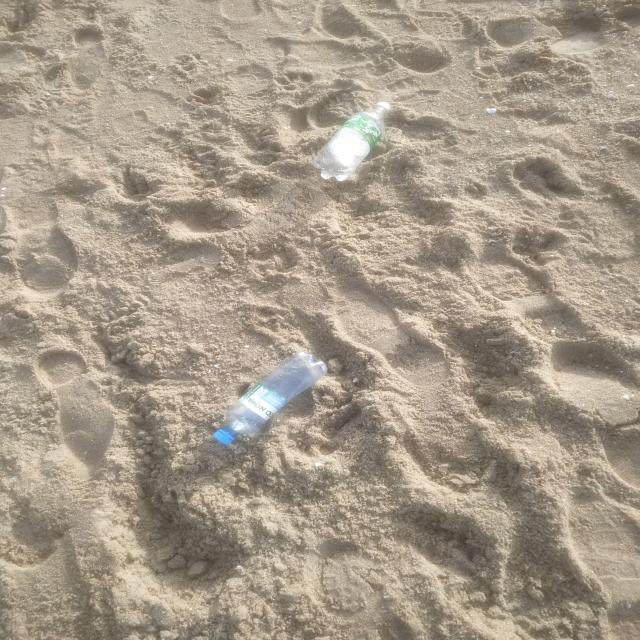litter: (214, 351, 328, 445), (313, 102, 391, 180)
